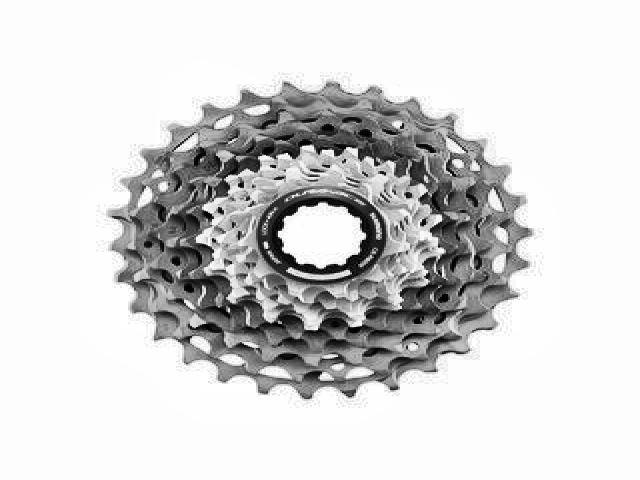cassette: (105, 81, 535, 401)
